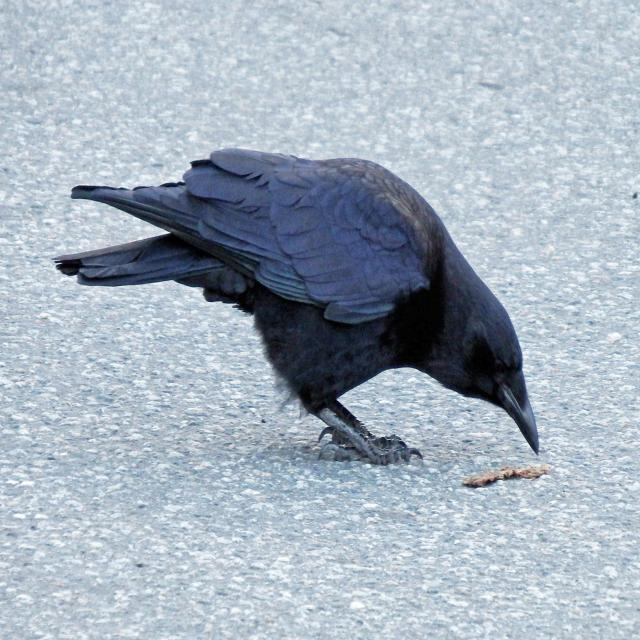crow: (55, 149, 539, 464)
